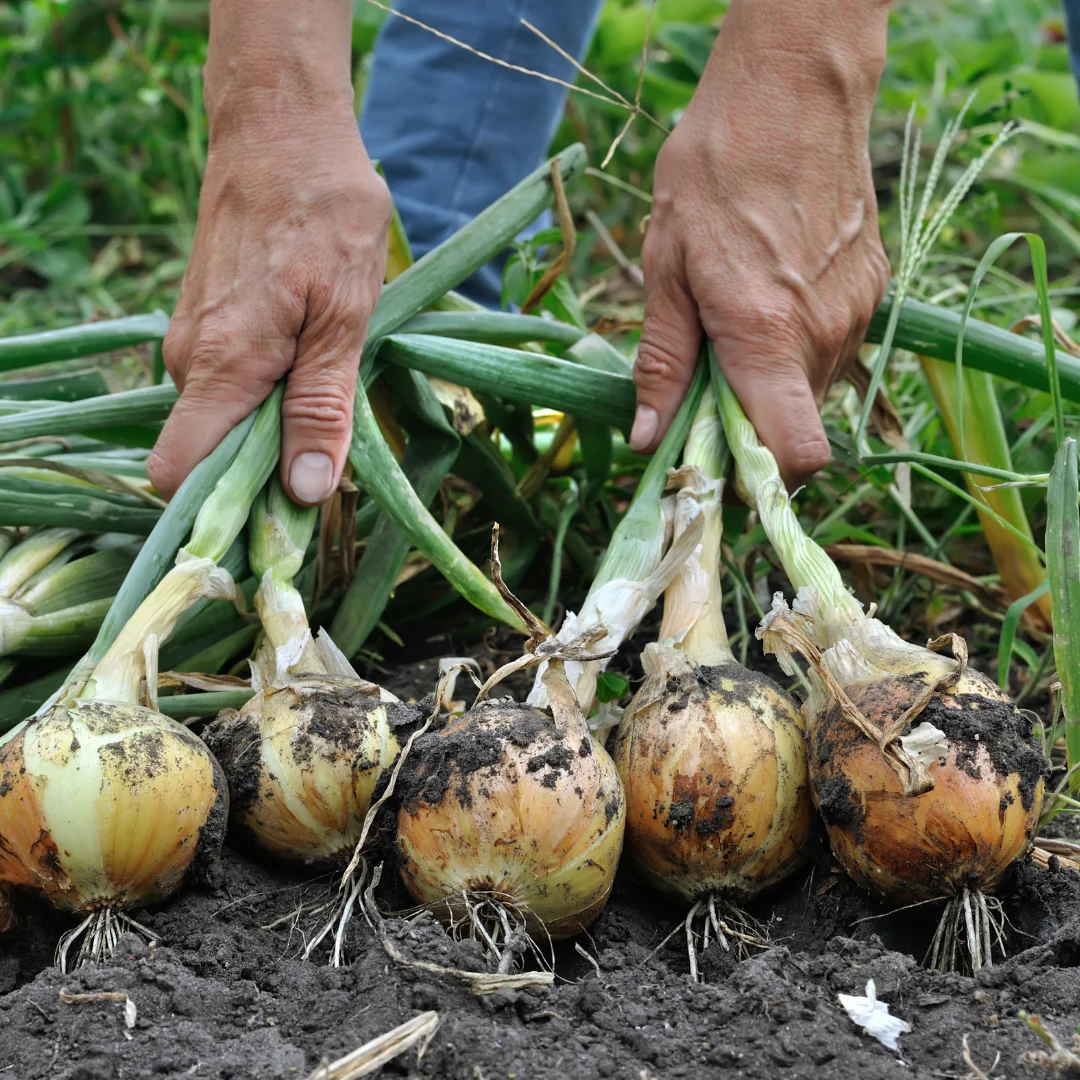onion: (85, 545, 1013, 979)
